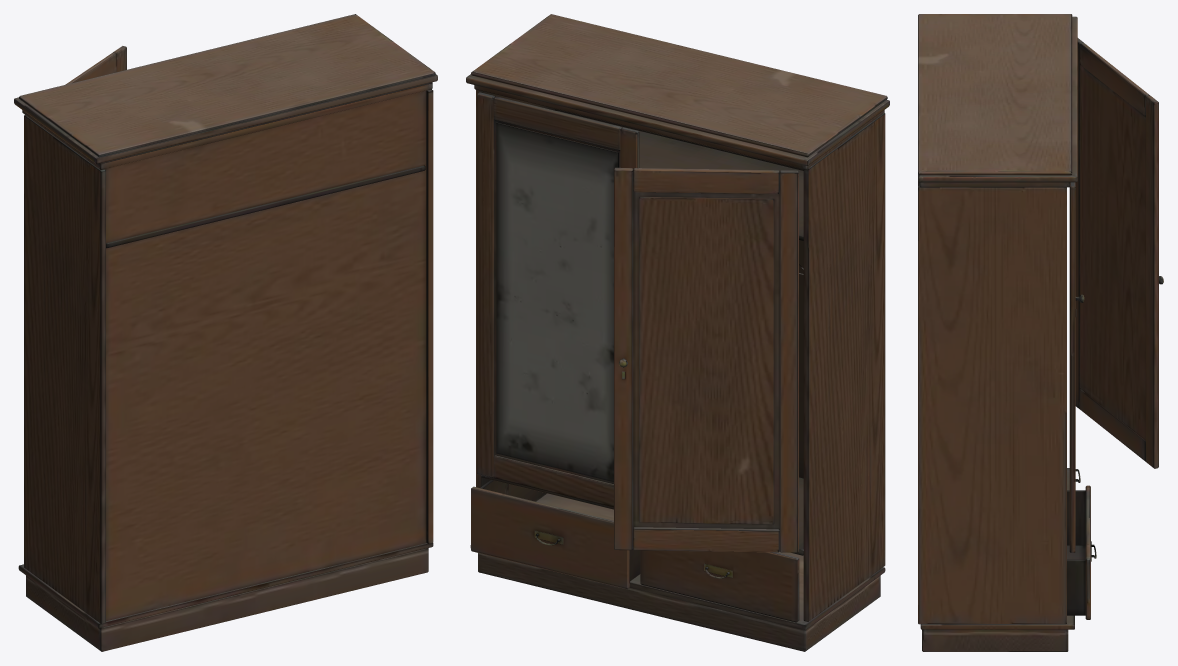
Rendered from furniture_cabinet_tall.glb.
The picture shows the model from 3 angles, left to right: view 1: azimuth 30°, elevation 25°; view 2: azimuth 150°, elevation 25°; view 3: azimuth 270°, elevation 25°; orthographic projection. The views are drawn at different scales.
Visible parts, largest first — view 1: furniture_cabinet_tall; view 2: furniture_cabinet_tall; view 3: furniture_cabinet_tall.
Boxes of the visible parts, box(x1,y1,x2,y2) form: furniture_cabinet_tall: box(14, 14, 437, 651); furniture_cabinet_tall: box(466, 14, 889, 651); furniture_cabinet_tall: box(918, 14, 1163, 651).
Bounding box in the file's own units: 1.43 × 2 × 0.9236.
Materials: 1 (1 with a texture image).
